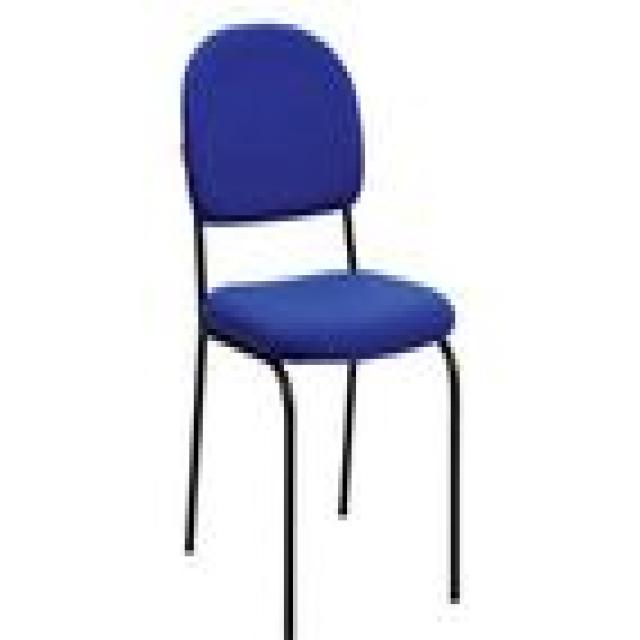others: (158, 18, 482, 640)
